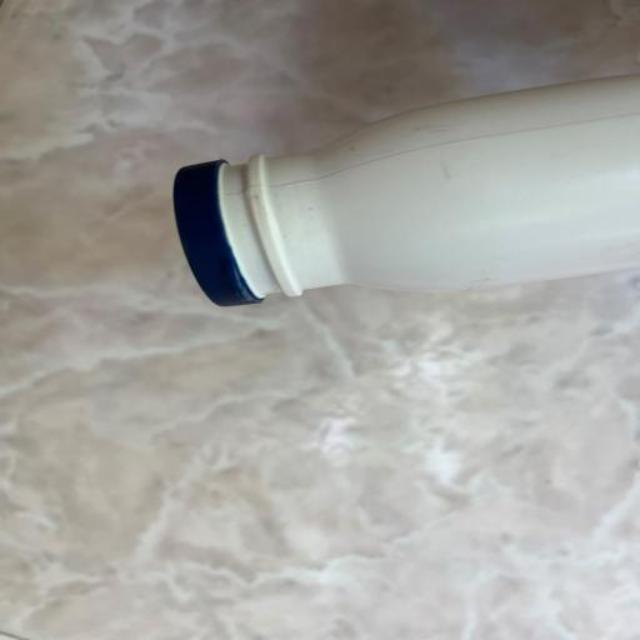HDPE: (120, 84, 640, 339)
